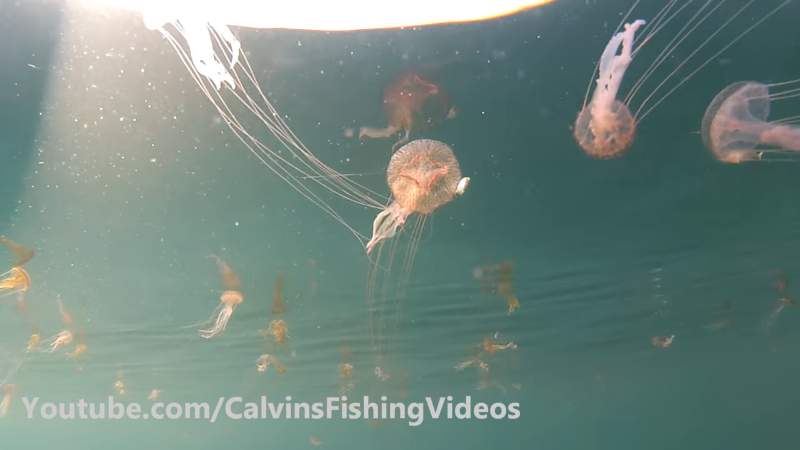yellow jellyfish: (365, 138, 464, 243), (696, 79, 800, 170), (573, 22, 636, 161), (201, 286, 248, 337), (2, 264, 30, 293)
